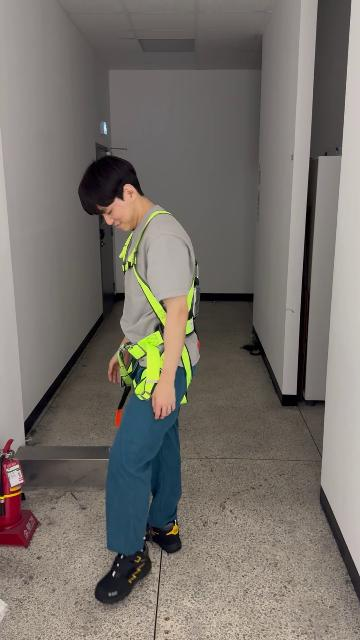helmet_not_worn: (79, 155, 147, 214)
shoe_worn: (94, 541, 151, 603), (147, 518, 180, 553)
vest_worn: (115, 214, 202, 403)
